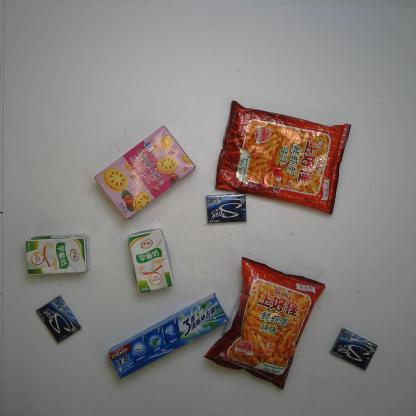Dessert: (92, 124, 198, 222)
Gum: (35, 295, 83, 343), (331, 326, 379, 370), (204, 191, 249, 225)
Milk: (127, 227, 175, 294), (25, 231, 90, 277)
Personal Hygiene: (106, 291, 236, 379)
Puffed Food: (203, 257, 328, 391), (214, 100, 352, 216)
